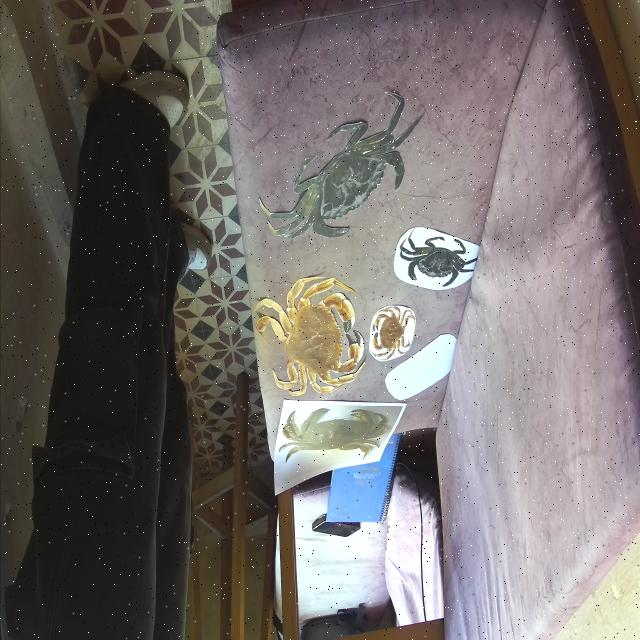European_Green_Crab: (258, 59, 439, 292), (397, 223, 480, 298)
